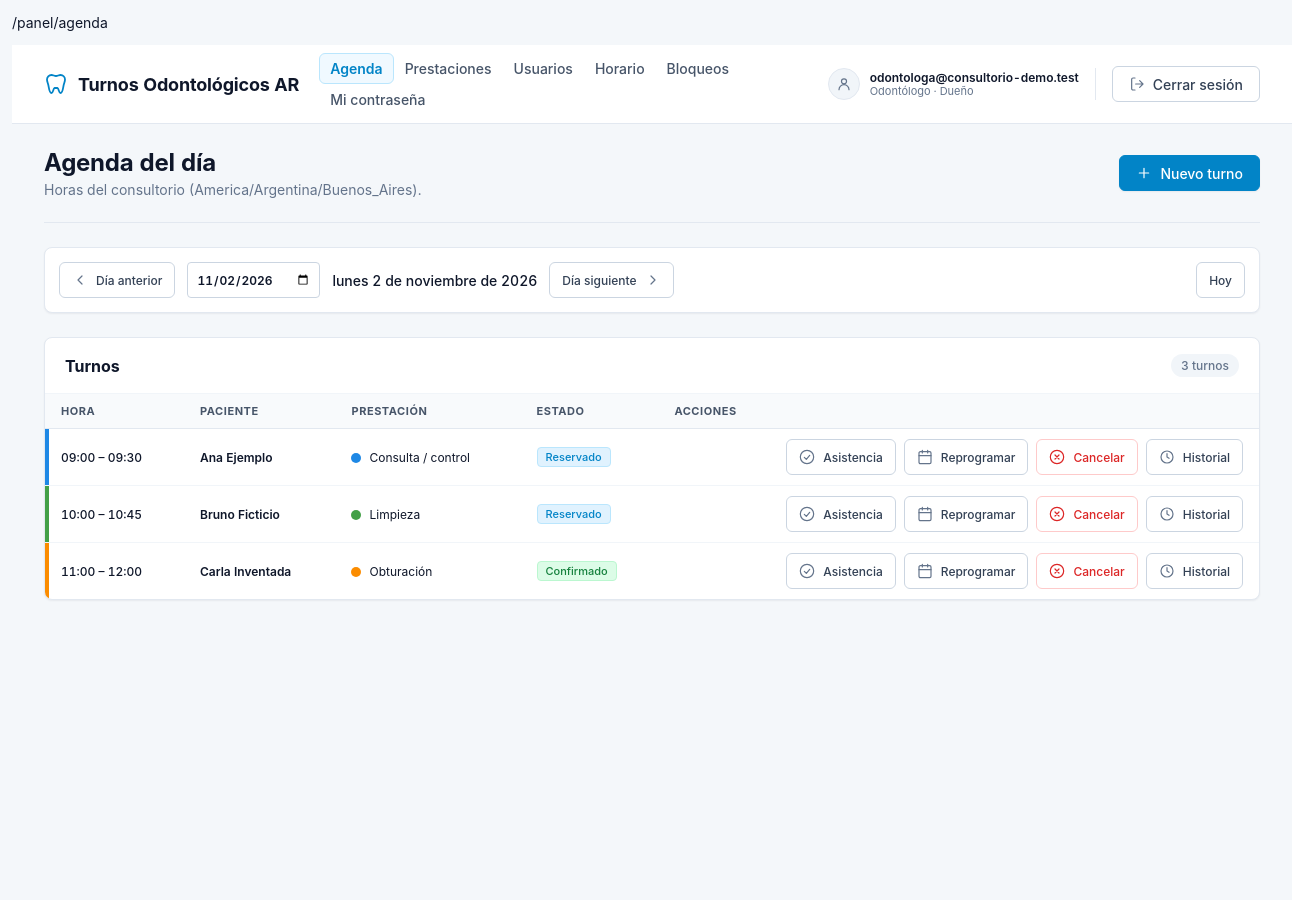
PanelHistorial: ver el historial desde la agenda › HIS-2b: un estado_cambiado de atendido
The width and height of the screenshot is (1292, 900).
Expected: the text "lunes 2 de noviembre de 2026" is shown, 332,272 -> 537,288
Click the button with aria-label "Historial del turno de Ana Ejemplo, 09:00" at (1194, 457), box 1146,439 -> 1243,475
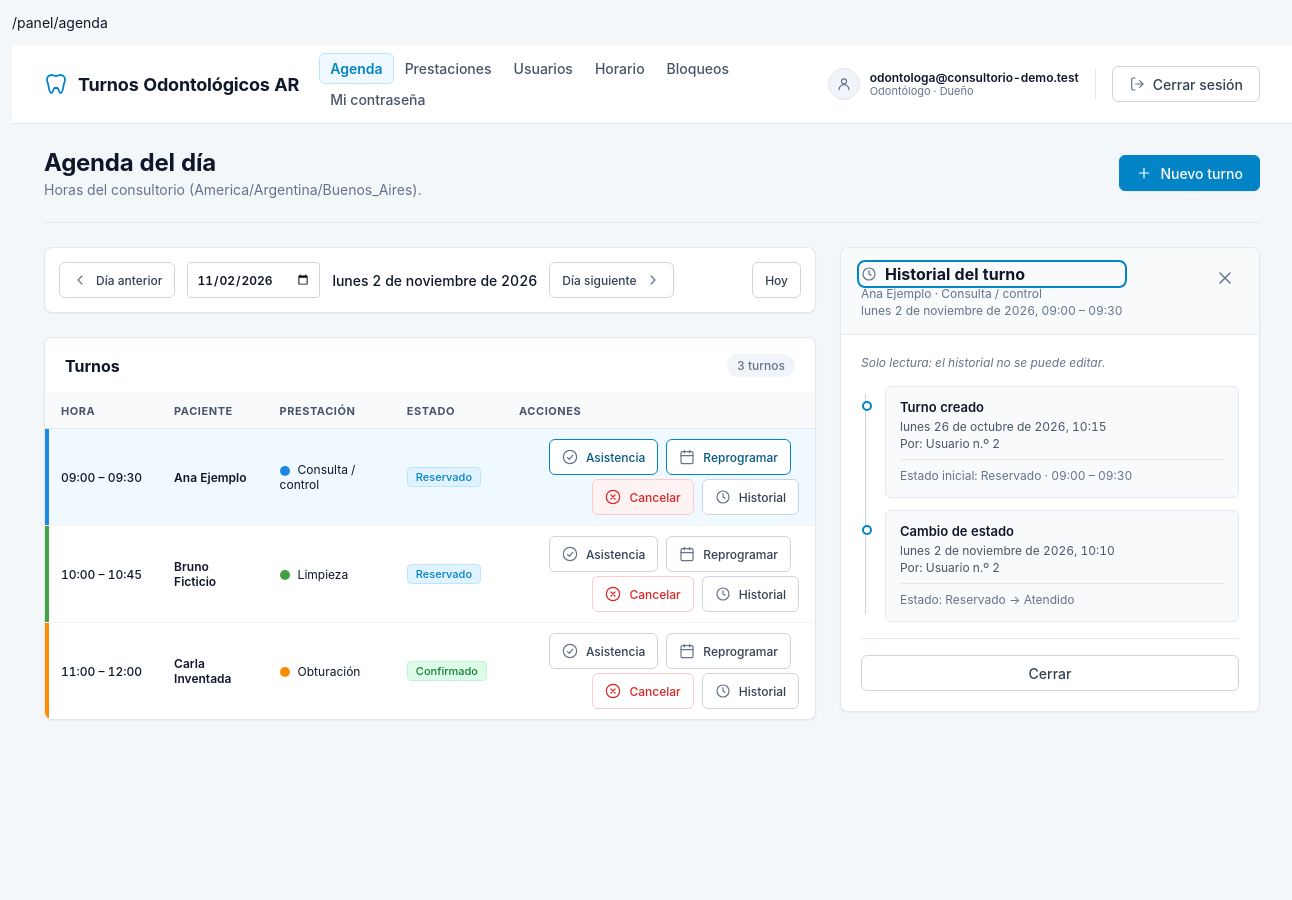
Result: the list items read "Turno creadolunes 26 de octubre de 2026, 10:15Por: Usuario n.º 2Estado inicial: Reservado · 09:00 – 09:30", "Cambio de estadolunes 2 de noviembre de 2026, 10:10Por: Usuario n.º 2Estado: Reservado → Atendido", in this order at 885,386 -> 1239,498; 885,510 -> 1239,622
